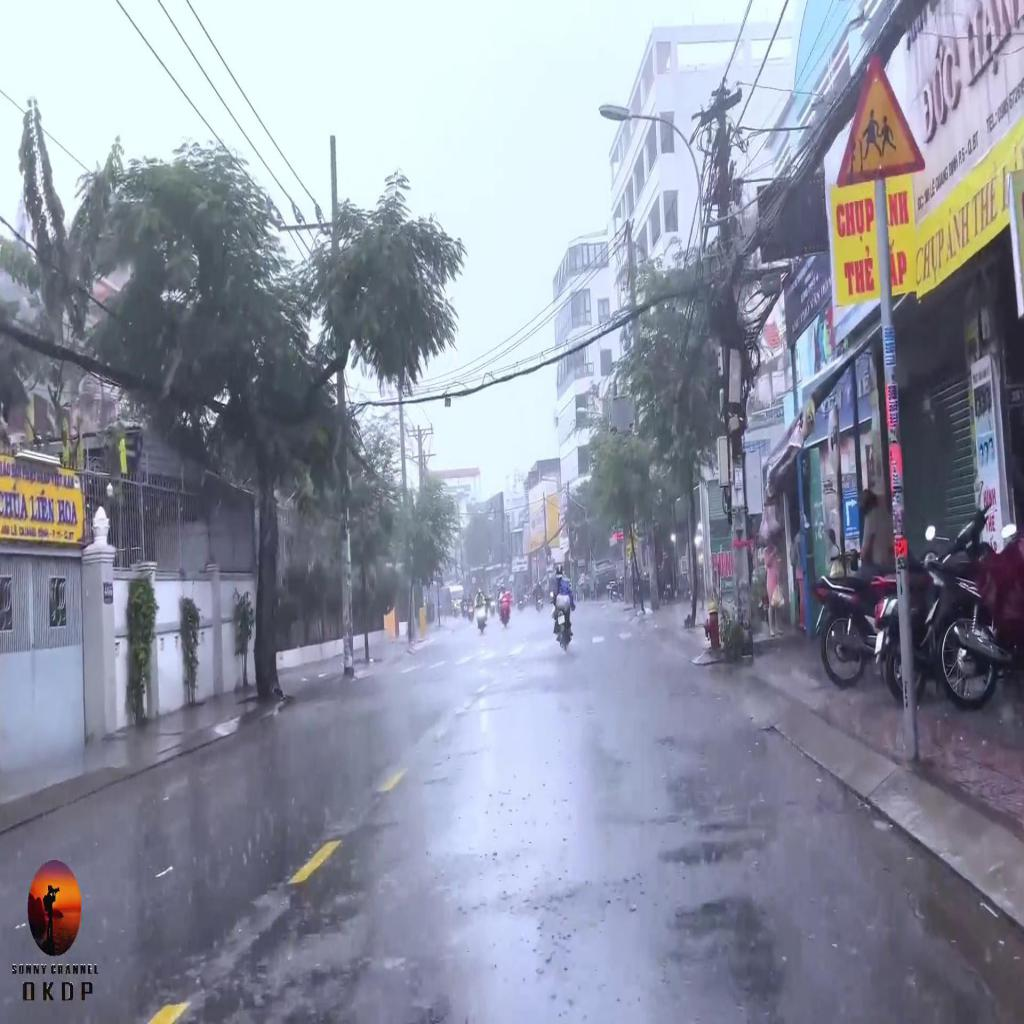chu_y_tre_em: (836, 44, 926, 186)
